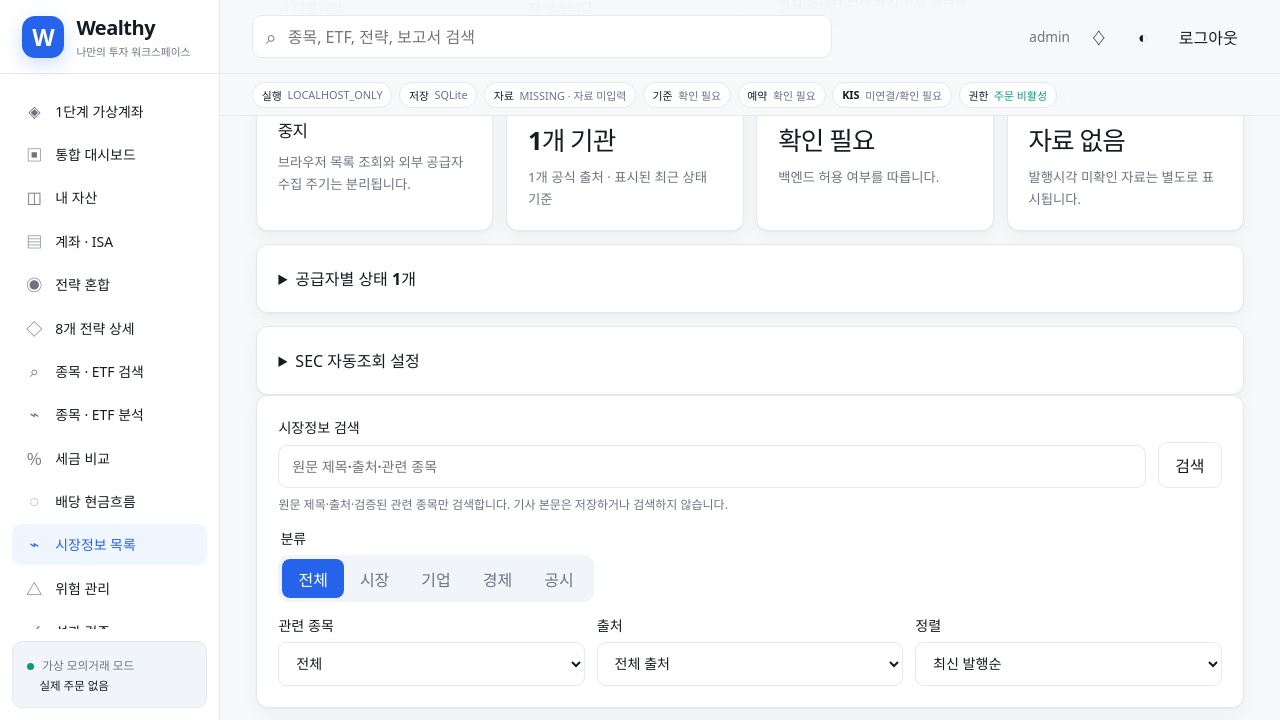
미국 시장정보 화면 › SEC 연락정보는 기존 보안 저장 API로 보내고 원문을 다시 표시하지 않는다
The image size is (1280, 720).
(page scrolled)
Click the heading "SEC 자동조회 설정" at (358, 361), box [295, 350, 420, 372]
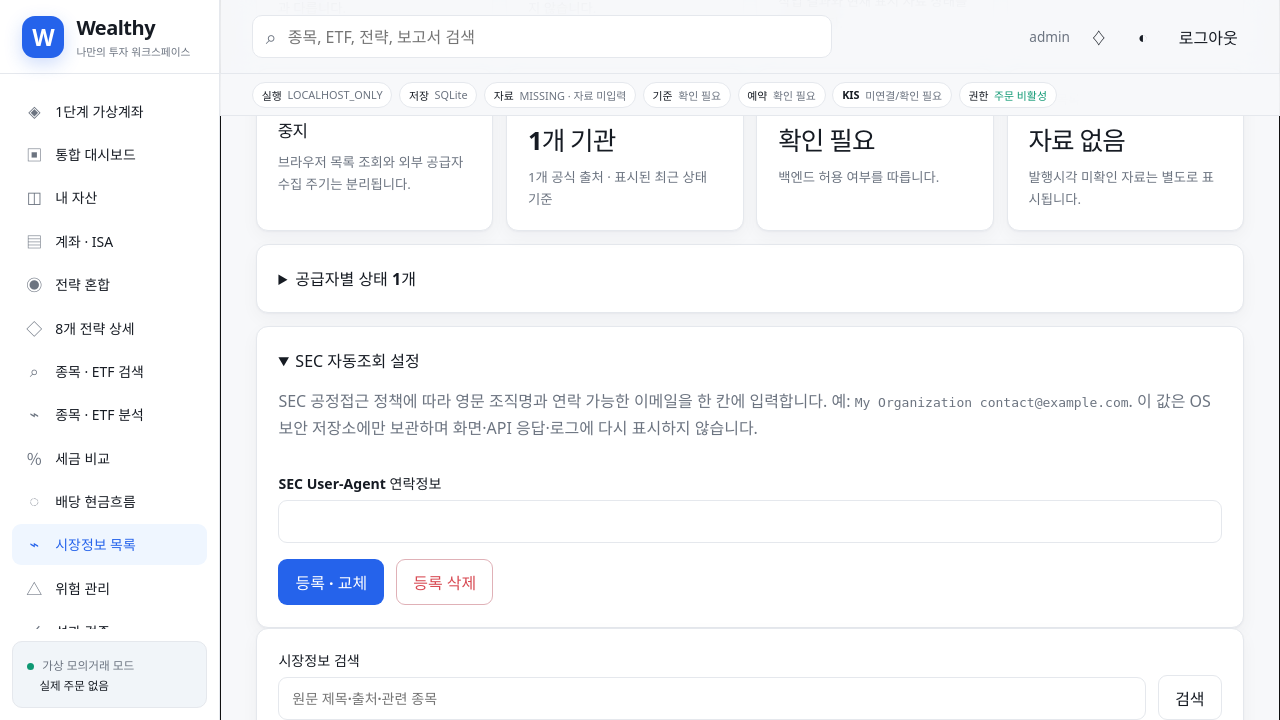
Type "Fixture Team contact@example.invalid" into the password field labelled "SEC User-Agent 연락정보" at (750, 522), box [278, 500, 1222, 543]
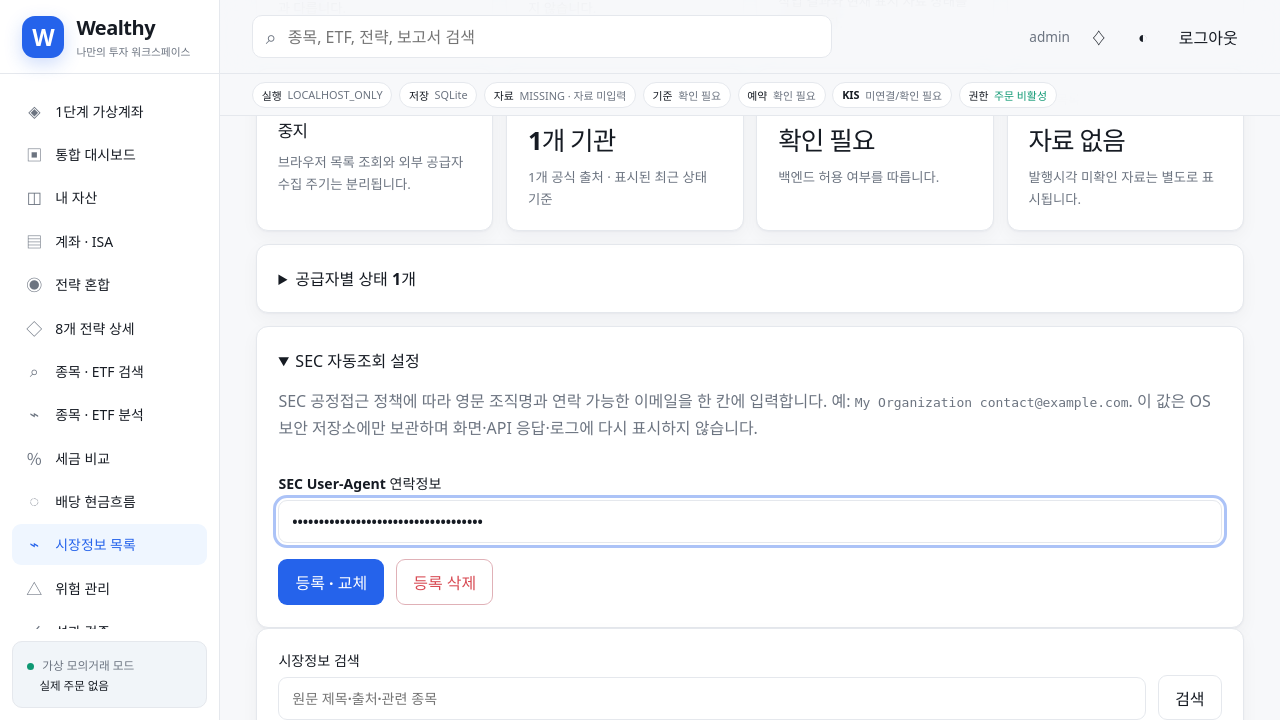
Click the button "등록 · 교체" at (331, 582), box [278, 559, 384, 605]
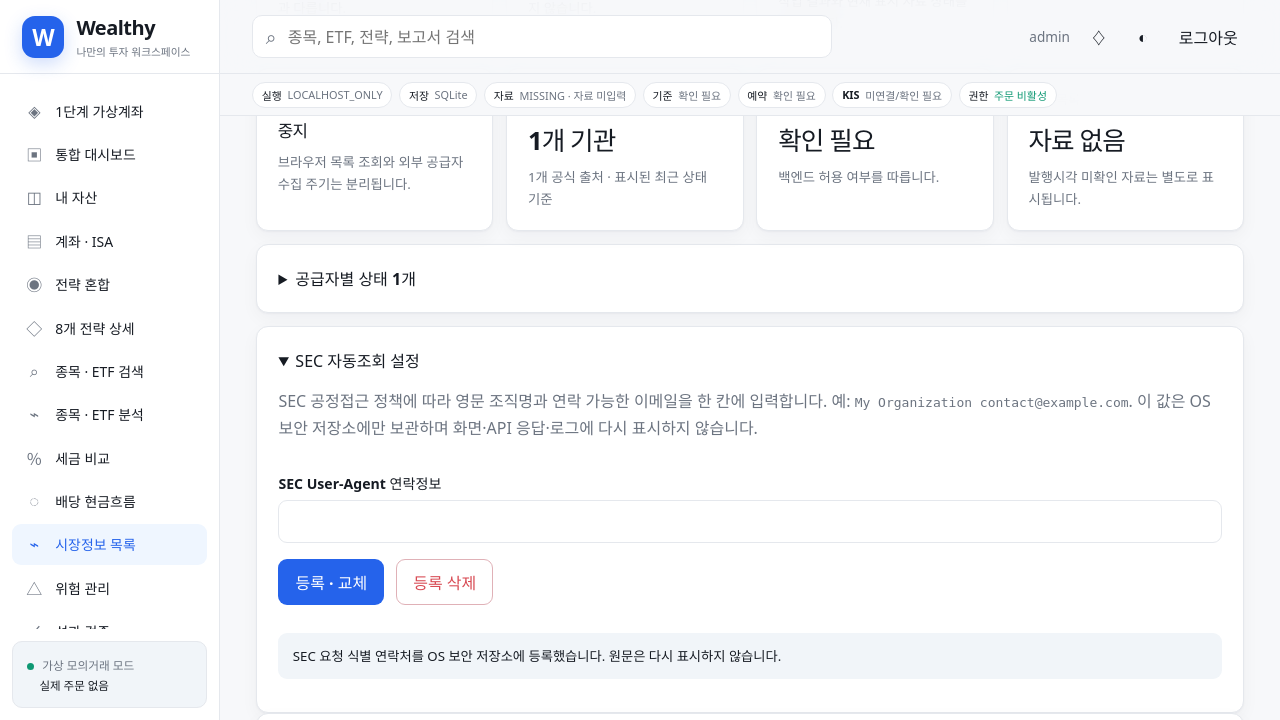
Check: the text "SEC 요청 식별 연락처를 OS 보안 저장소에 등록했습니다. 원문은 다시 표시하지 않습니다." is shown, box [278, 633, 1222, 679]
Check: the password field labelled "SEC User-Agent 연락정보" is empty, box [278, 500, 1222, 543]
